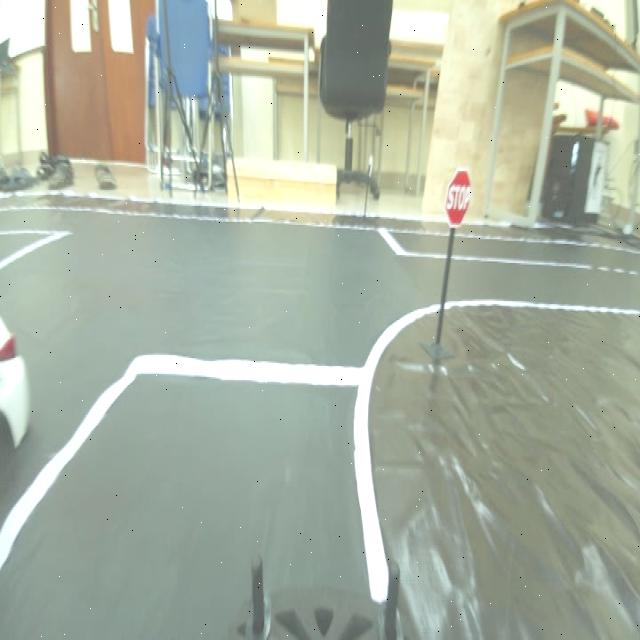stop: (441, 168, 477, 226)
